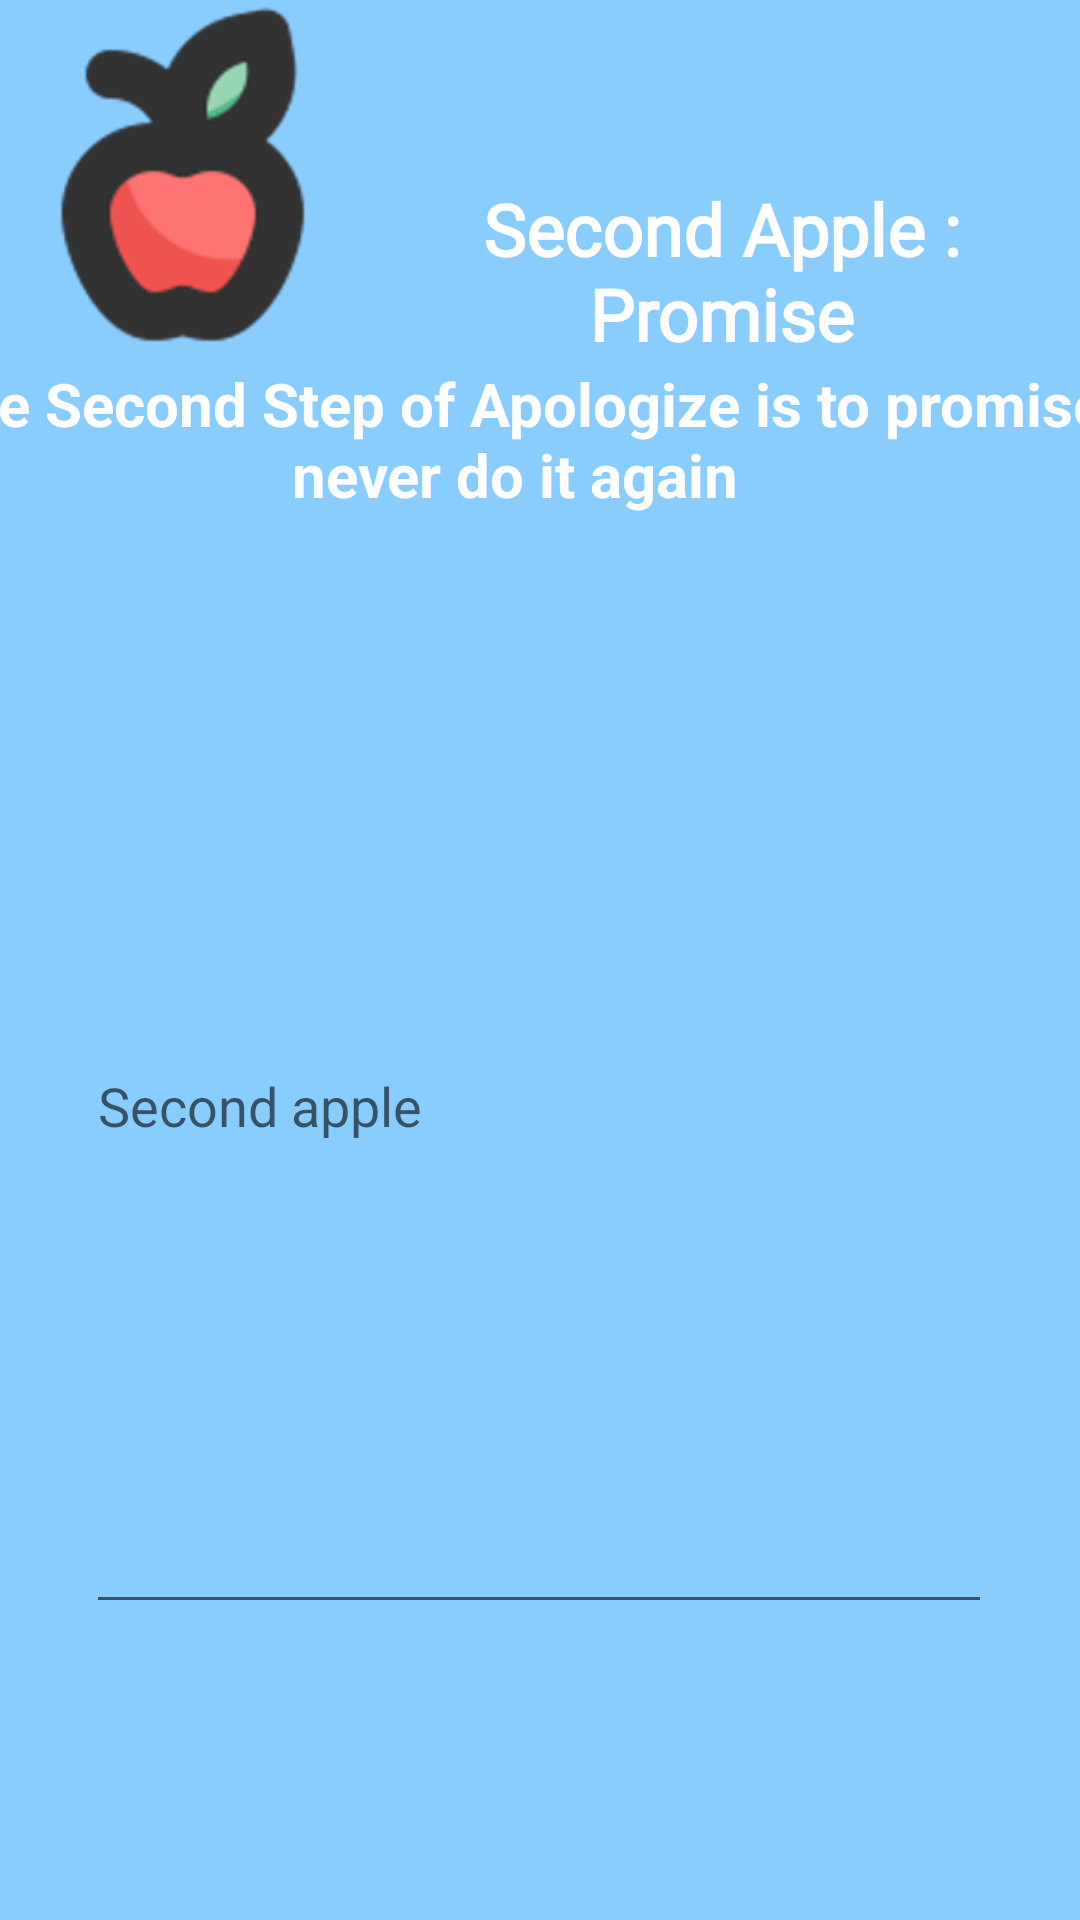

Locate icon controls on the screen. Image size 1080*1920, boxes as {"left": x1, "top": y1, "right": x2, "bottom": y2}.
only apple: {"left": 60, "top": 7, "right": 305, "bottom": 342}
